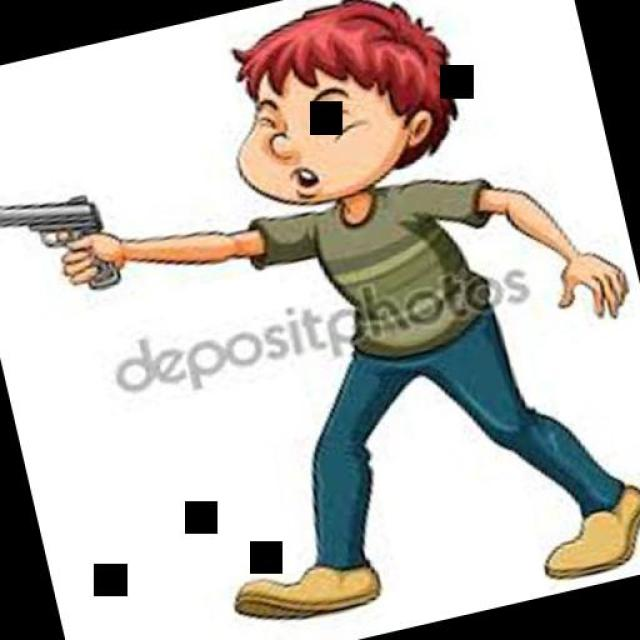gun: (0, 172, 126, 312)
